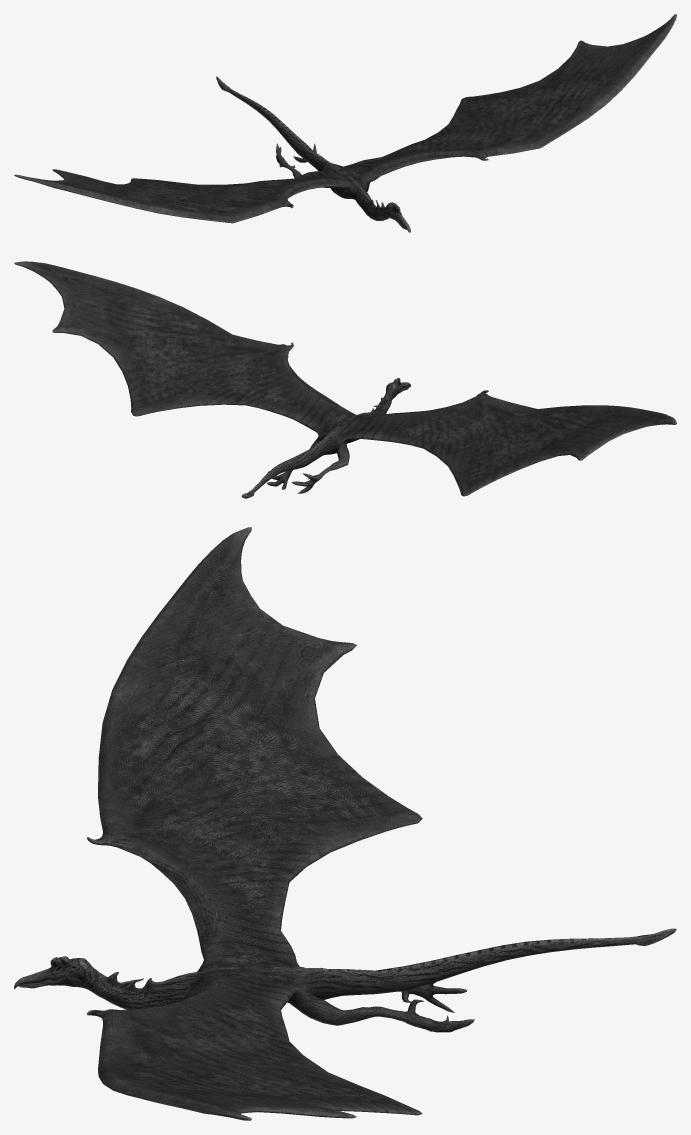
Rendered from Fellbeast_Animate_Flying_18.obj.
The picture shows the model from 3 angles, top to bottom: view 1: azimuth 30°, elevation 25°; view 2: azimuth 150°, elevation 25°; view 3: azimuth 270°, elevation 25°; orthographic projection. The views are drawn at different scales.
Parts seen in each view (by area): view 1: Fellbeast; view 2: Fellbeast; view 3: Fellbeast.
Part boxes in pixels (x1,y1,x2,y2): Fellbeast: (14,14,676,232); Fellbeast: (14,261,676,498); Fellbeast: (14,527,676,1120).
Bounding box in the file's own units: 9.25 × 1.45 × 4.38.
